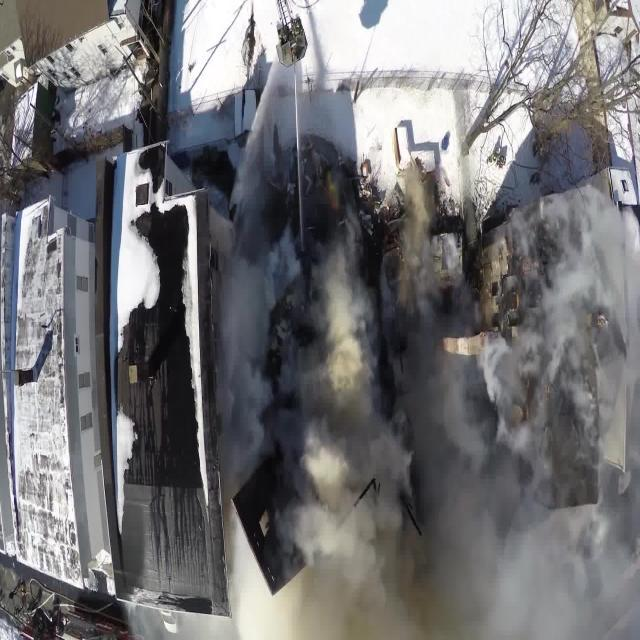Smoke: (236, 220, 640, 640)
